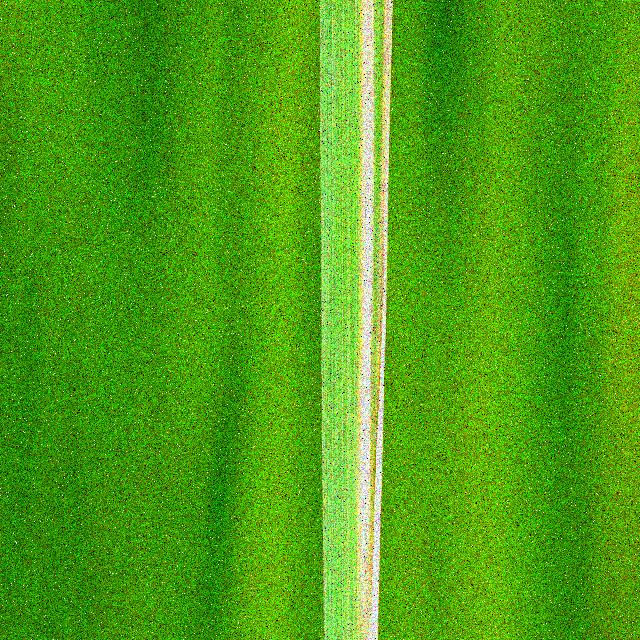BLB: (359, 0, 392, 640)
